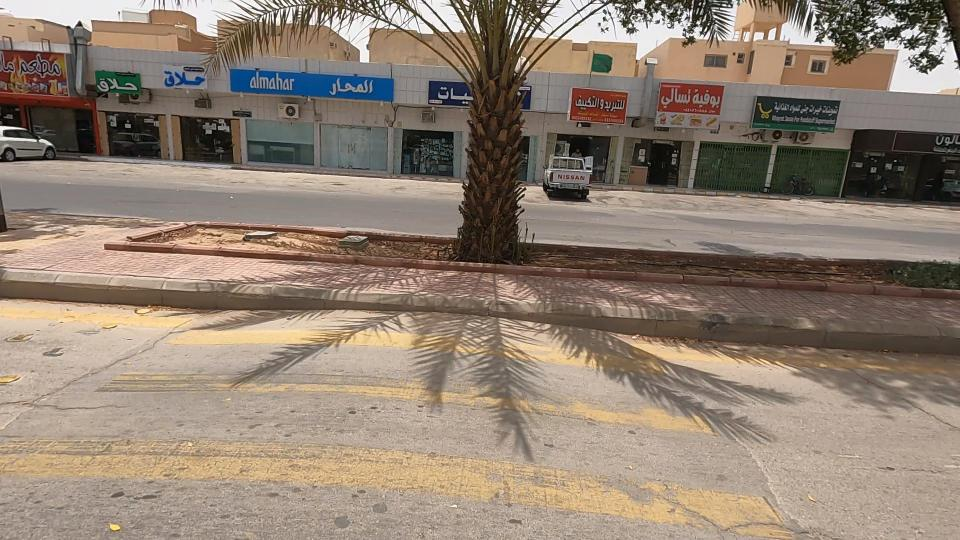CLUTTER_SIDEWALK: (68, 181, 503, 301)
GARBAGE: (316, 214, 394, 265), (229, 214, 300, 253)
